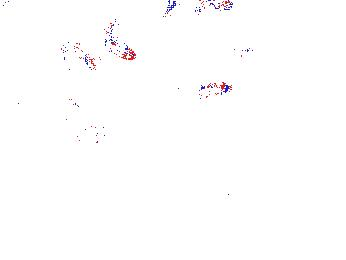glassfish: (1, 82, 77, 139), (68, 95, 103, 130)
red belly glassfish: (173, 80, 231, 99), (221, 44, 253, 58)
redtail glassfish: (102, 26, 138, 62), (162, 1, 237, 17), (59, 41, 96, 72)
